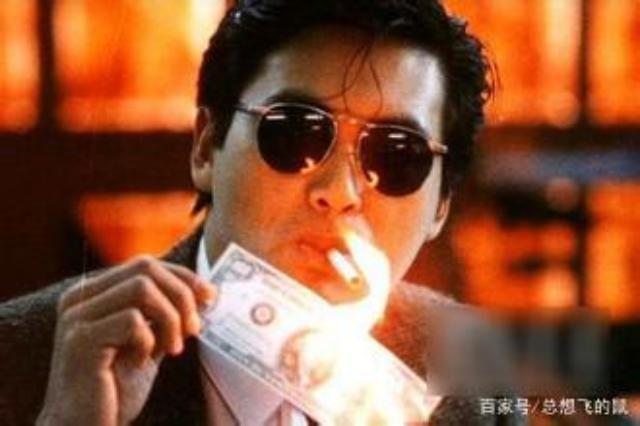Smoking: (323, 246, 361, 290)
